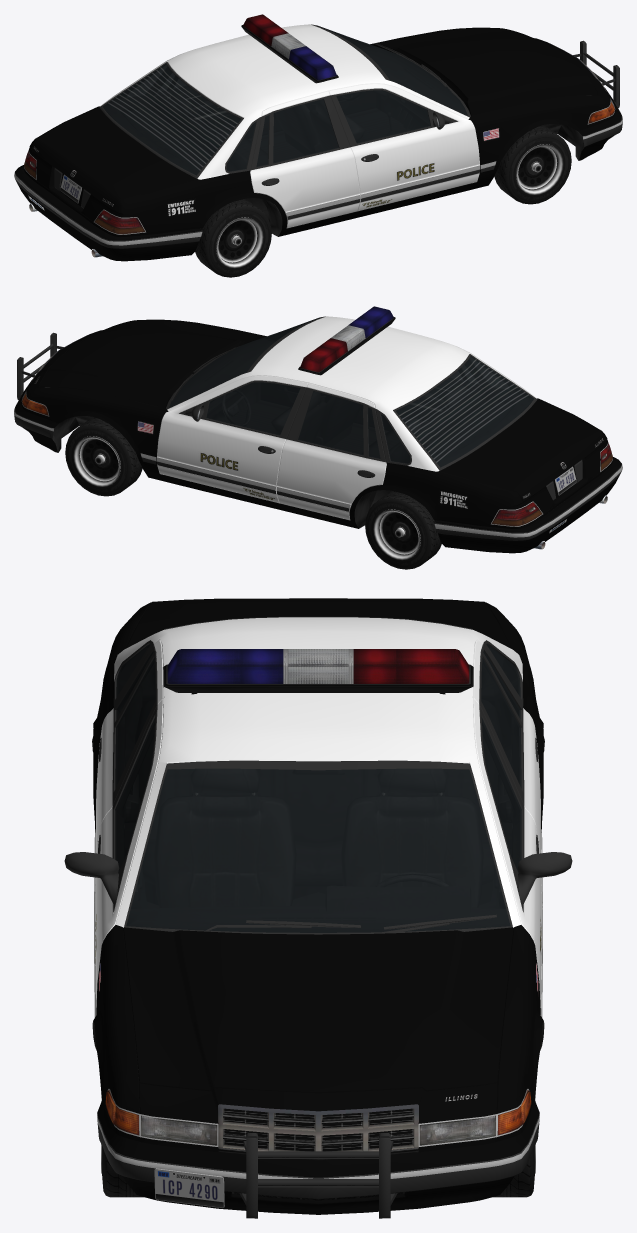
The model's file is illinois_90_police.glb.
The picture shows the model from 3 angles, top to bottom: view 1: azimuth 30°, elevation 25°; view 2: azimuth 150°, elevation 25°; view 3: azimuth 270°, elevation 25°; orthographic projection. The views are drawn at different scales.
Parts seen in each view (by area): view 1: Illinois90_Body_Illinois90_Bodymat_0, Illinois90_Interior_UCB_Interiors_2_0, Illinois90_Hood_Illinois90_Bodymat_0, Illinois90_Trunkdoor_Illinois90_Bodymat_0, Illinois90_Bottom_UCB_BOTTOM_0, Illinois90_Rear_Glass_UCB_Lights_and_Glass_Transperent_0, Illinois90_Body_Glass_UCB_Lights_and_Glass_Transperent_0, Illinois90_WheelStock_RR_RB1c_Tire_1k_0, Illinois90_WheelStock_FR_RB1c_Tire_1k_0, Illinois90_Glass_Passenger_UCB_Lights_and_Glass_Transperent_, Illinois90_Bumper_rear_Illinois90_Bodymat_0, Illinois90_Lightbar_UCB_Lights_and_Glass_0 (+9 smaller); view 2: Illinois90_Body_Illinois90_Bodymat_0, Illinois90_Interior_UCB_Interiors_2_0, Illinois90_Hood_Illinois90_Bodymat_0, Illinois90_Trunkdoor_Illinois90_Bodymat_0, Illinois90_Bottom_UCB_BOTTOM_0, Illinois90_Rear_Glass_UCB_Lights_and_Glass_Transperent_0, Illinois90_Body_Glass_UCB_Lights_and_Glass_Transperent_0, Illinois90_WheelStock_RL_RB1c_Tire_1k_0, Illinois90_WheelStock_FL_RB1c_Tire_1k_0, Illinois90_glass_Driver_UCB_Lights_and_Glass_Transperent_0, Illinois90_Bumper_rear_Illinois90_Bodymat_0, Illinois90_Lightbar_UCB_Lights_and_Glass_0 (+9 smaller); view 3: Illinois90_Body_Illinois90_Bodymat_0, Illinois90_Interior_UCB_Interiors_2_0, Illinois90_Hood_Illinois90_Bodymat_0, Illinois90_Windshield_UCB_Lights_and_Glass_Transperent_0, Illinois90_Bottom_UCB_BOTTOM_0, Illinois90_Lightbar_UCB_Lights_and_Glass_0, Illinois90_Bumper_front_Illinois90_Bodymat_0, Illinois90_Trunkdoor_Illinois90_Bodymat_0, Illinois90_Bumper_front_inner_UCB_BOTTOM_0, Illinois90_Body_Glass_UCB_Lights_and_Glass_Transperent_0, Illinois90_Headlights_Glass_UCB_Lights_and_Glass_Transperent, Illinois90_Bullbar_UCB_BOTTOM_0 (+7 smaller).
Part boxes in pixels (x1,y1,x2,y2): Illinois90_Body_Illinois90_Bodymat_0: [23, 24, 615, 236]; Illinois90_Interior_UCB_Interiors_2_0: [103, 29, 467, 209]; Illinois90_Hood_Illinois90_Bodymat_0: [374, 28, 597, 115]; Illinois90_Trunkdoor_Illinois90_Bodymat_0: [31, 108, 195, 221]; Illinois90_Bottom_UCB_BOTTOM_0: [24, 24, 615, 257]; Illinois90_Rear_Glass_UCB_Lights_and_Glass_Transperent_0: [102, 64, 240, 175]; Illinois90_Body_Glass_UCB_Lights_and_Glass_Transperent_0: [128, 65, 338, 171]; Illinois90_WheelStock_RR_RB1c_Tire_1k_0: [195, 199, 271, 277]; Illinois90_WheelStock_FR_RB1c_Tire_1k_0: [494, 125, 571, 204]; Illinois90_Glass_Passenger_UCB_Lights_and_Glass_Transperent_: [336, 90, 430, 143]; Illinois90_Bumper_rear_Illinois90_Bodymat_0: [15, 165, 202, 261]; Illinois90_Lightbar_UCB_Lights_and_Glass_0: [241, 14, 338, 83]; Illinois90_Body_Illinois90_Bodymat_0: [21, 316, 613, 528]; Illinois90_Interior_UCB_Interiors_2_0: [169, 321, 533, 510]; Illinois90_Hood_Illinois90_Bodymat_0: [39, 320, 262, 407]; Illinois90_Trunkdoor_Illinois90_Bodymat_0: [441, 400, 605, 513]; Illinois90_Bottom_UCB_BOTTOM_0: [21, 316, 612, 549]; Illinois90_Rear_Glass_UCB_Lights_and_Glass_Transperent_0: [396, 356, 534, 467]; Illinois90_Body_Glass_UCB_Lights_and_Glass_Transperent_0: [298, 357, 508, 463]; Illinois90_WheelStock_RL_RB1c_Tire_1k_0: [365, 491, 441, 569]; Illinois90_WheelStock_FL_RB1c_Tire_1k_0: [65, 417, 142, 496]; Illinois90_glass_Driver_UCB_Lights_and_Glass_Transperent_0: [206, 382, 300, 435]; Illinois90_Bumper_rear_Illinois90_Bodymat_0: [434, 457, 621, 553]; Illinois90_Lightbar_UCB_Lights_and_Glass_0: [298, 306, 395, 375]; Illinois90_Body_Illinois90_Bodymat_0: [93, 602, 543, 1152]; Illinois90_Interior_UCB_Interiors_2_0: [117, 648, 519, 932]; Illinois90_Hood_Illinois90_Bodymat_0: [123, 927, 513, 1093]; Illinois90_Windshield_UCB_Lights_and_Glass_Transperent_0: [126, 768, 510, 932]; Illinois90_Bottom_UCB_BOTTOM_0: [64, 616, 572, 1160]; Illinois90_Lightbar_UCB_Lights_and_Glass_0: [163, 649, 473, 694]; Illinois90_Bumper_front_Illinois90_Bodymat_0: [97, 1101, 539, 1214]; Illinois90_Trunkdoor_Illinois90_Bodymat_0: [125, 598, 511, 648]; Illinois90_Bumper_front_inner_UCB_BOTTOM_0: [97, 1114, 539, 1200]; Illinois90_Body_Glass_UCB_Lights_and_Glass_Transperent_0: [115, 644, 521, 788]; Illinois90_Headlights_Glass_UCB_Lights_and_Glass_Transperent: [105, 1090, 531, 1145]; Illinois90_Bullbar_UCB_BOTTOM_0: [239, 1133, 397, 1218].
Size of the model in its own units: 5.21 by 1.56 by 2.09.
Materials: 8 (8 with a texture image).
